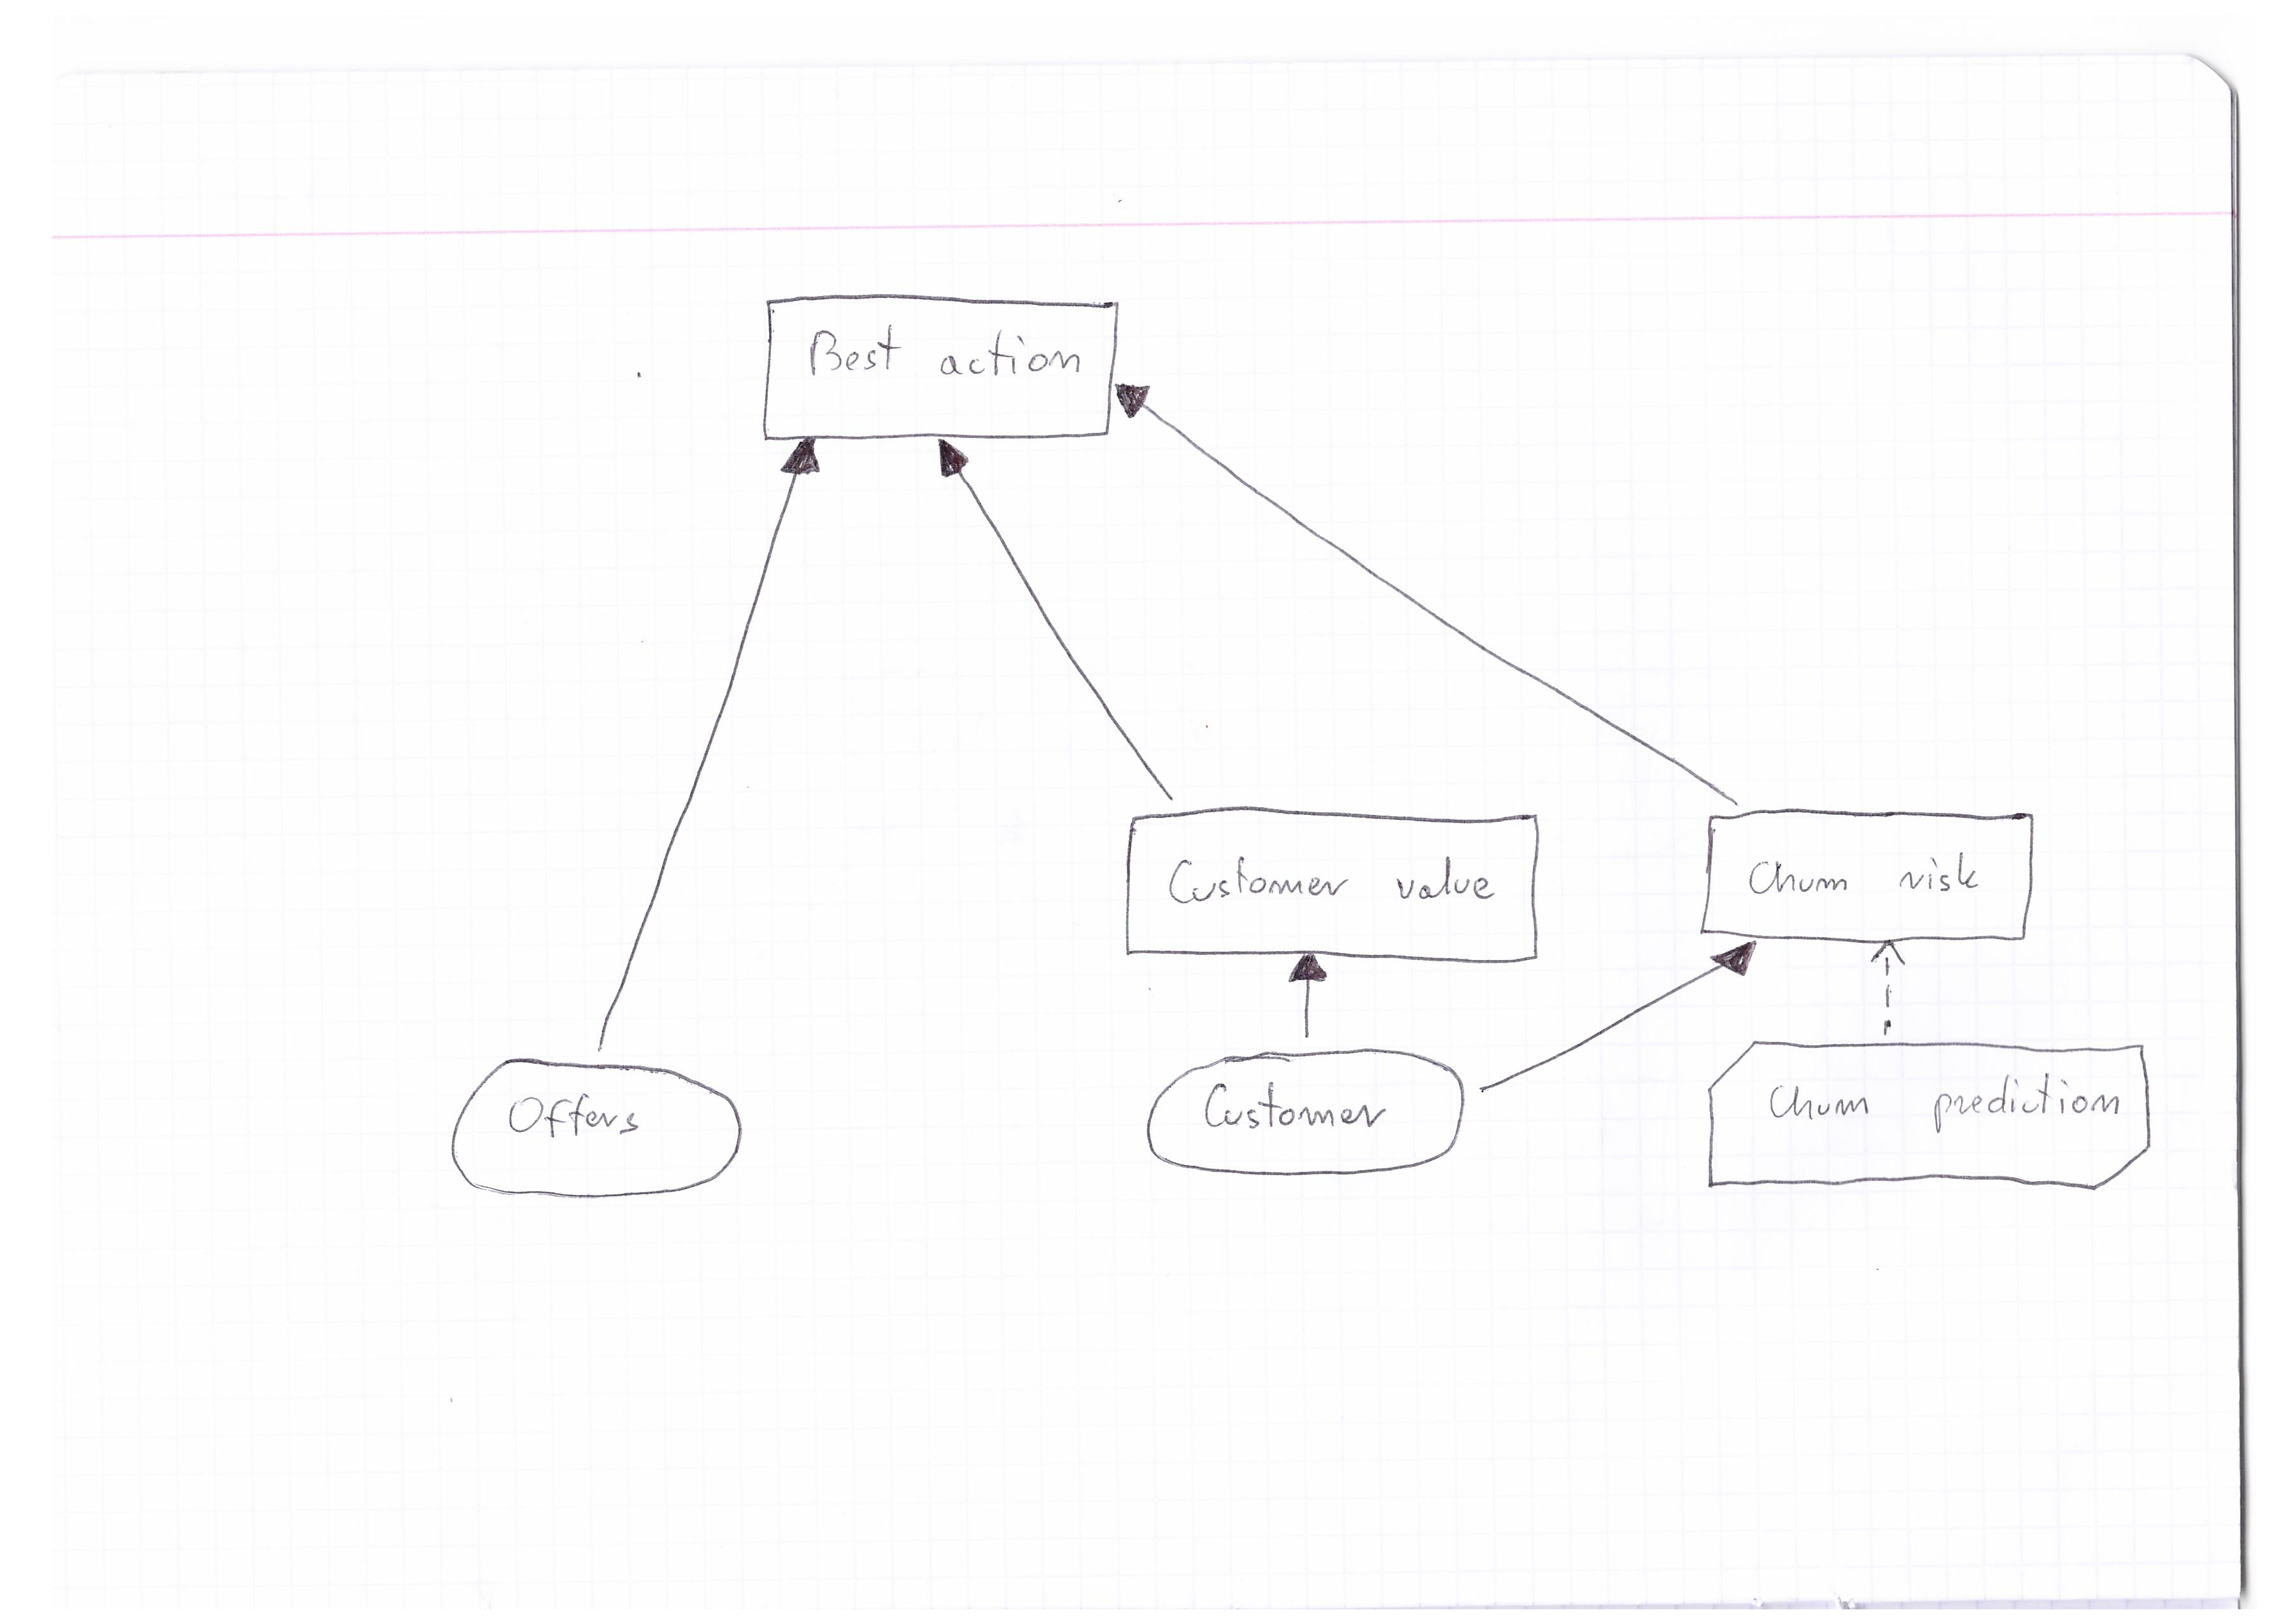arrow_information_requirement: (1112, 374, 1747, 807), (552, 439, 840, 1055), (921, 438, 1183, 810), (1471, 939, 1764, 1100), (1277, 949, 1330, 1042)
arrow_knowledge_requirement: (1864, 933, 1910, 1048)
node_decision: (1119, 803, 1539, 960), (756, 294, 1114, 439), (1694, 807, 2042, 940)
node_input_data: (445, 1053, 766, 1211), (1140, 1046, 1471, 1190)
node_knowledge_model: (1692, 1033, 2174, 1204)
text: (1759, 1065, 2124, 1139), (798, 311, 1093, 401), (1160, 844, 1501, 916), (1740, 844, 1989, 909), (1193, 1074, 1400, 1142), (501, 1083, 655, 1148)
